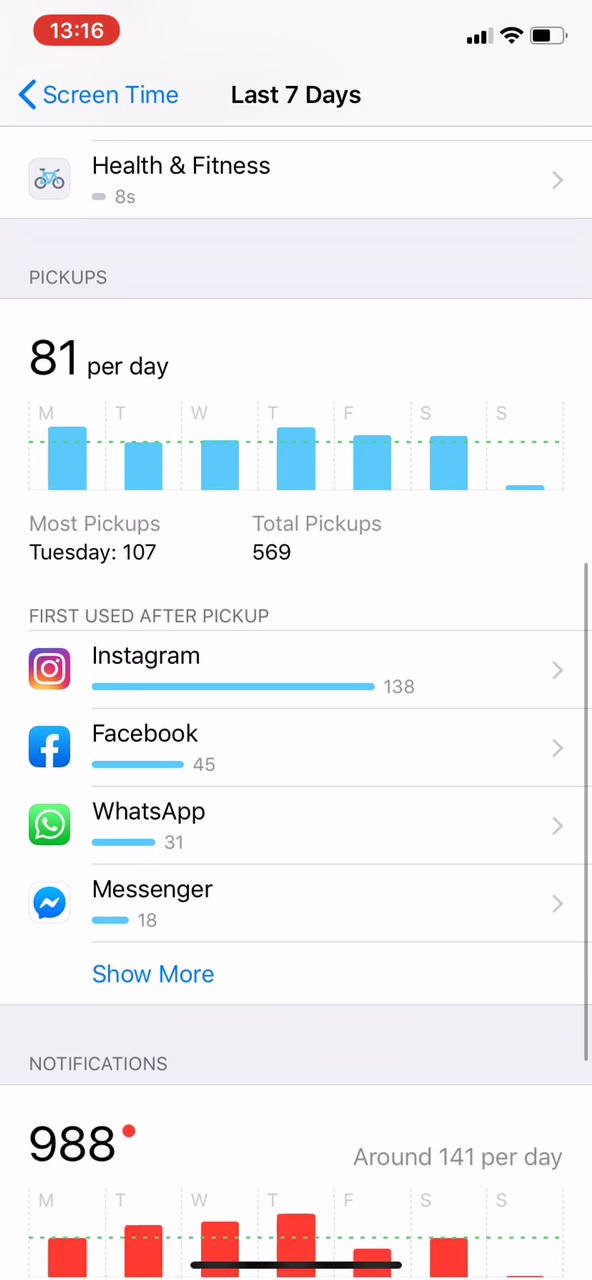not_over: (7, 1003, 232, 1178)
pick_app: (18, 636, 442, 700), (17, 791, 276, 857), (15, 716, 262, 777), (20, 867, 243, 933)
pick_over: (17, 505, 436, 588)
week: (211, 73, 378, 111)
